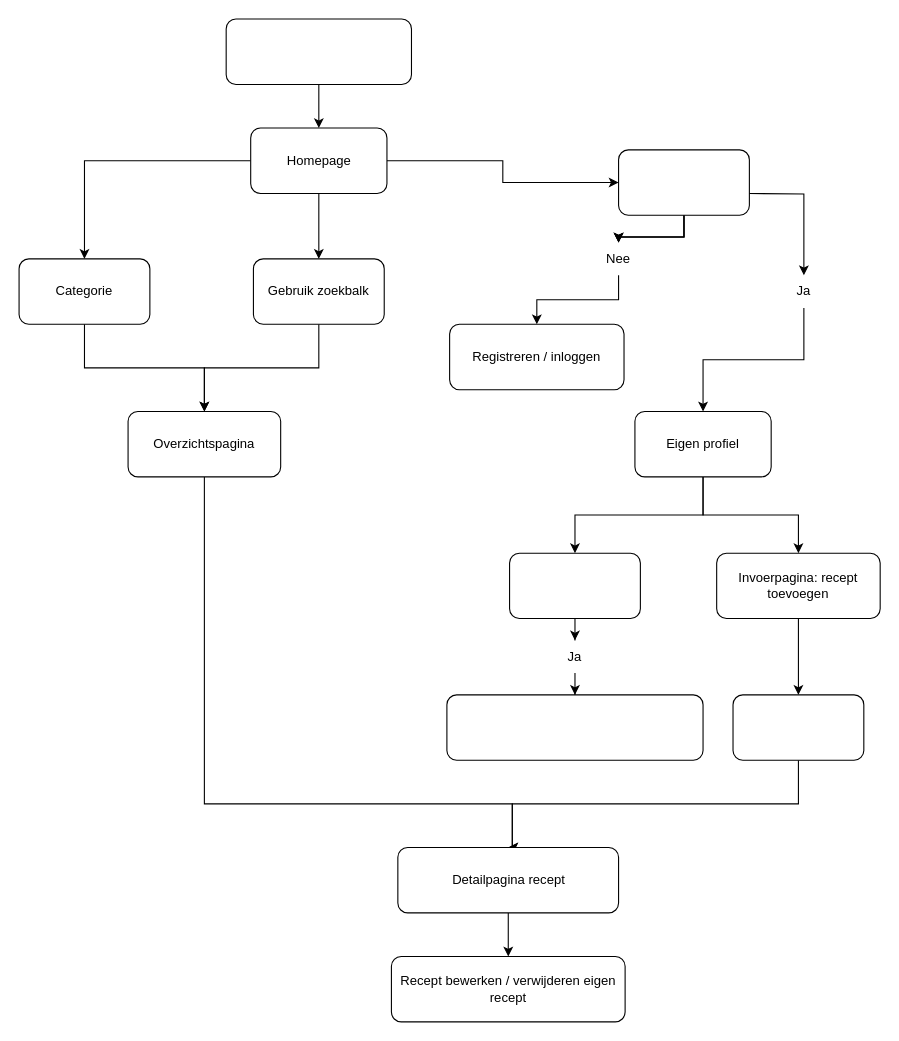
The diagram is 899 pixels wide and 1041 high, and some of its shapes have lost their labels. Each missing label, with the centre of its shape:
Admin?: [574,585]
Beheeromgeving: recepten en gebruikers beheren: [574,727]
Bezoeker opent site: [318,51]
Ingelogd?: [683,182]
Recept opgeslagen in database: [798,727]
